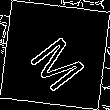M_NE: (21, 21, 89, 89)
